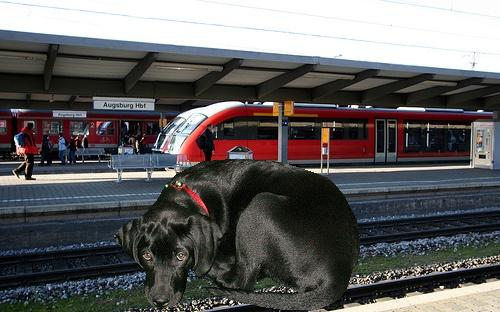tampered: (114, 160, 360, 310)
